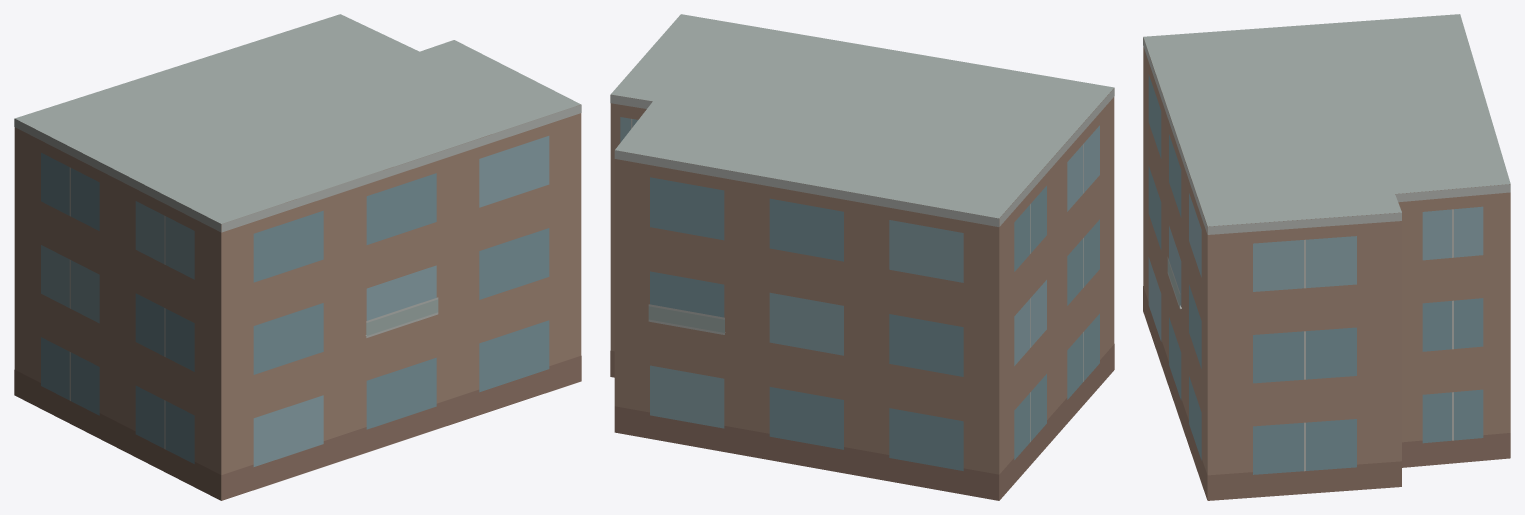
File: survey-upis-32698539.glb
3 renders of one model, left to right at view 1: azimuth 30°, elevation 25°; view 2: azimuth 150°, elevation 25°; view 3: azimuth 270°, elevation 25°, orthographic. The views are drawn at different scales.
Parts seen in each view (by area): view 1: survey-upis-32698539.tmp; view 2: survey-upis-32698539.tmp; view 3: survey-upis-32698539.tmp.
Boxes of the visible parts, left/top/right/bottom form: survey-upis-32698539.tmp: left=14, top=14, right=581, bottom=500; survey-upis-32698539.tmp: left=610, top=14, right=1114, bottom=500; survey-upis-32698539.tmp: left=1143, top=14, right=1510, bottom=500.
Size of the model in its own units: 13.14 by 7.9 by 9.6.
